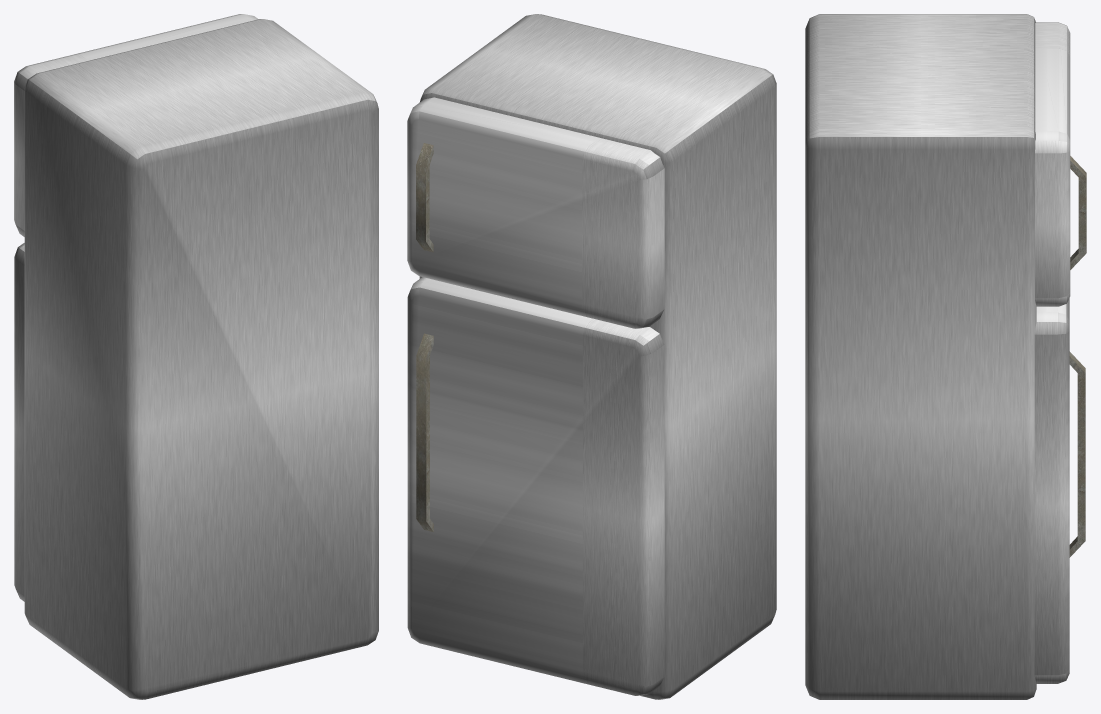
File: fridge.fbx
3 views of the same model, side by side, from view 1: azimuth 30°, elevation 25°; view 2: azimuth 150°, elevation 25°; view 3: azimuth 270°, elevation 25° (orthographic). The views are drawn at different scales.
Visible parts, largest first — view 1: Cube.221, Cube.219, Cube.220; view 2: Cube.220, Cube.221, Cube.219; view 3: Cube.221, Cube.220, Cube.219.
Boxes of the visible parts, bbox=[...] form: Cube.221: bbox=[24, 19, 378, 699]; Cube.219: bbox=[14, 14, 258, 236]; Cube.220: bbox=[14, 243, 24, 601]; Cube.220: bbox=[407, 277, 664, 695]; Cube.221: bbox=[419, 14, 776, 699]; Cube.219: bbox=[407, 97, 664, 328]; Cube.221: bbox=[805, 14, 1036, 699]; Cube.220: bbox=[1034, 298, 1085, 683]; Cube.219: bbox=[1035, 22, 1086, 306].
Size of the model in its own units: 174 by 365 by 162.
2 materials, 2 textured.
